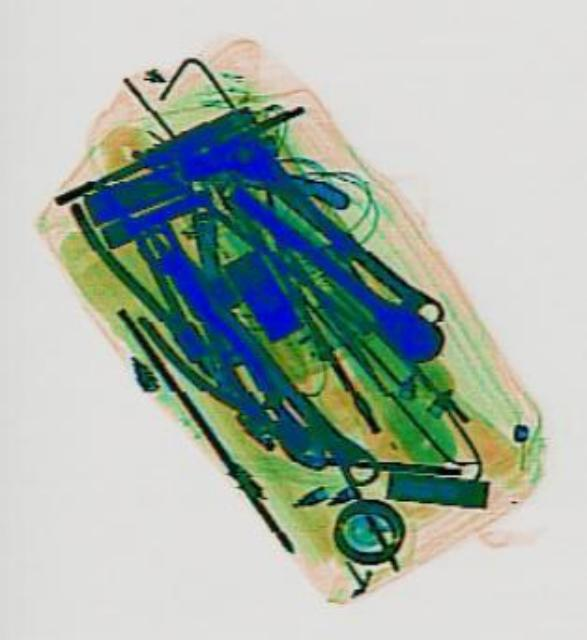Pliers: (111, 250, 348, 490), (59, 176, 222, 374)
Wrench: (127, 218, 382, 490), (215, 130, 448, 330)
